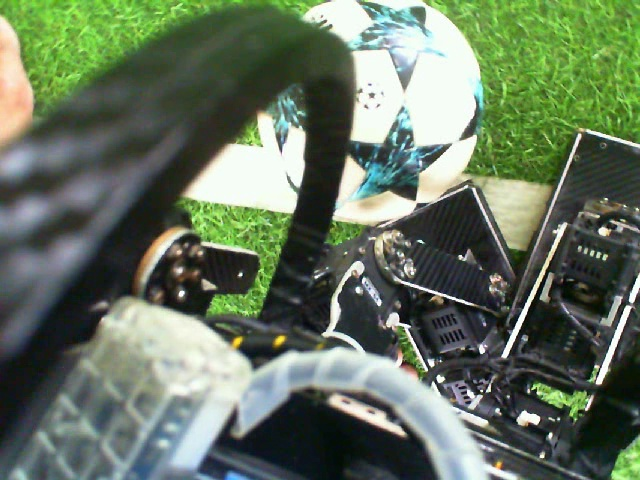ball: (328, 1, 484, 227)
